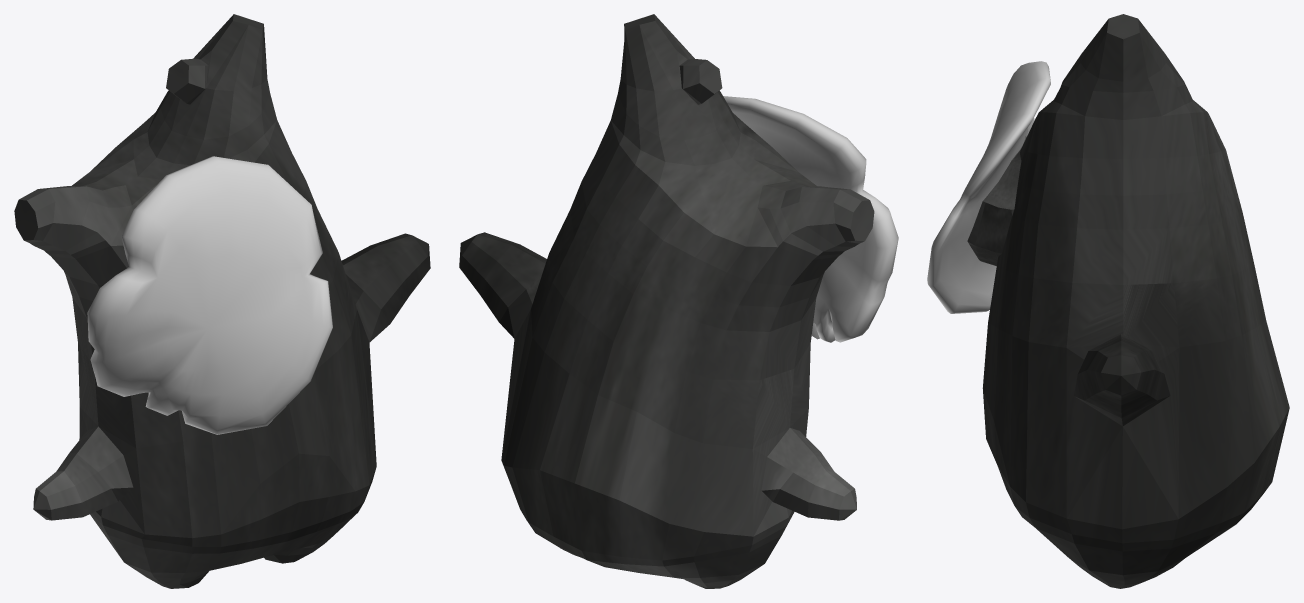
The model's file is frame_0027.obj.
3 views of the same model, side by side, from view 1: azimuth 30°, elevation 25°; view 2: azimuth 150°, elevation 25°; view 3: azimuth 270°, elevation 25° (orthographic).
Visible parts, largest first — view 1: korok, leaf; view 2: korok, leaf; view 3: korok, leaf, nose.
Part boxes in pixels (box(x1,y1,x2,y2)): korok: box(14, 14, 430, 588); leaf: box(87, 156, 332, 434); korok: box(459, 14, 874, 588); leaf: box(723, 96, 898, 342); korok: box(982, 14, 1289, 588); leaf: box(927, 61, 1050, 313); nose: box(967, 136, 1026, 265).
Size of the model in its own units: 1.76 by 2.3 by 1.38.
